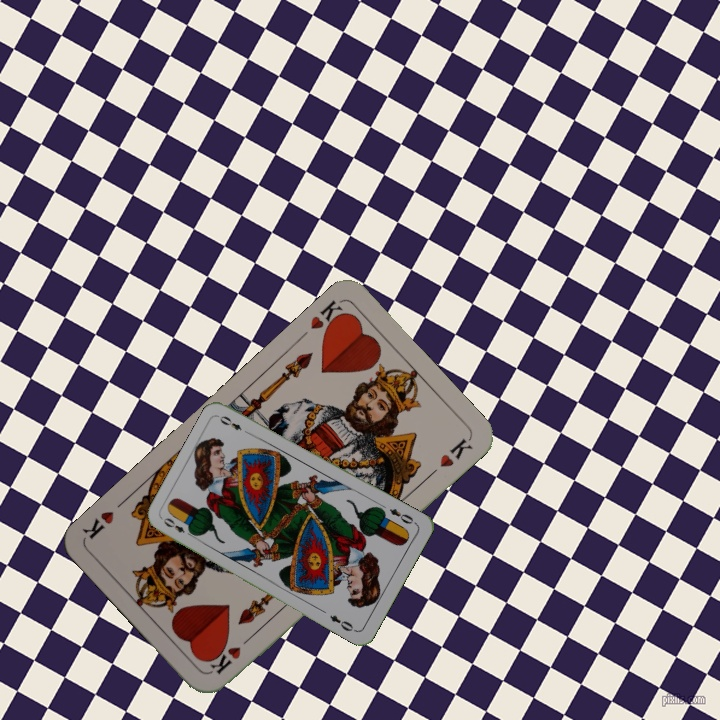EO: (159, 514, 197, 540), (385, 504, 419, 527)
HK: (206, 630, 256, 677), (306, 296, 351, 339)
